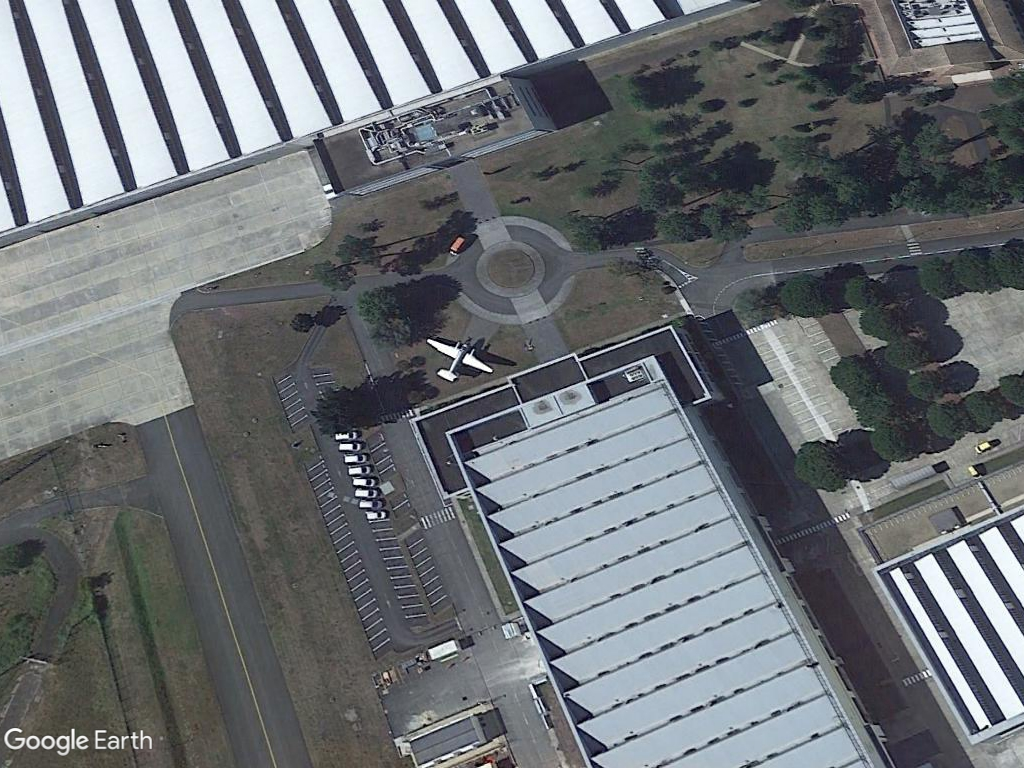trainer: (423, 333, 497, 384)
